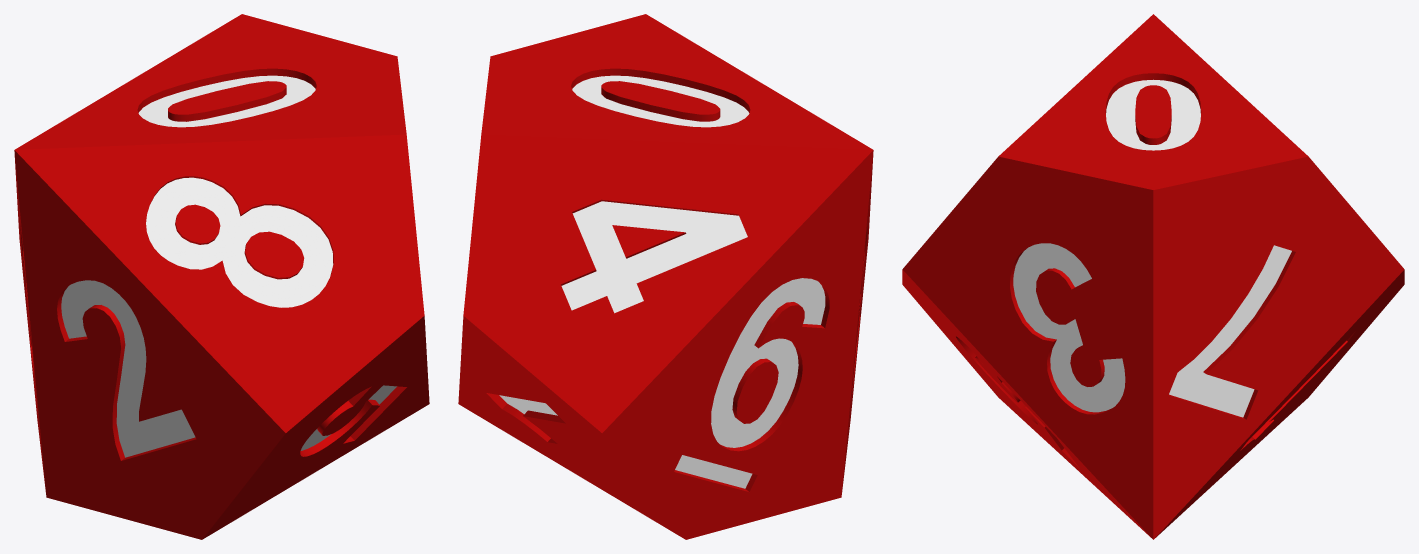
File: Game_Dice_D10_Red_01.fbx
3 views of the same model, side by side, from view 1: azimuth 30°, elevation 25°; view 2: azimuth 150°, elevation 25°; view 3: azimuth 270°, elevation 25° (orthographic). The views are drawn at different scales.
Visible parts, largest first — view 1: Model; view 2: Model; view 3: Model.
Boxes of the visible parts, left/top/right/bottom form: Model: left=14, top=14, right=429, bottom=539; Model: left=458, top=14, right=873, bottom=539; Model: left=902, top=14, right=1404, bottom=539.
Bounding box in the file's own units: 459 × 375 × 510.
